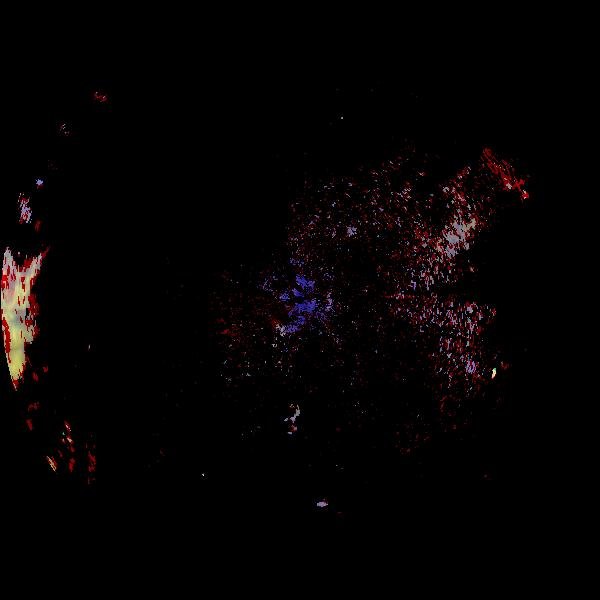roost: (283, 406, 298, 421), (320, 502, 326, 508)
